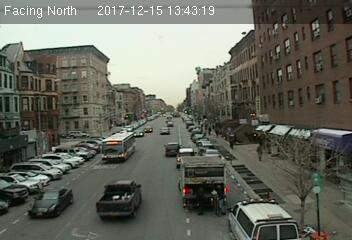bus: (99, 130, 135, 162)
car: (96, 180, 141, 219), (27, 187, 74, 218), (177, 147, 195, 166), (164, 142, 181, 157)
police: (227, 198, 302, 239)
truck: (178, 155, 229, 212)
